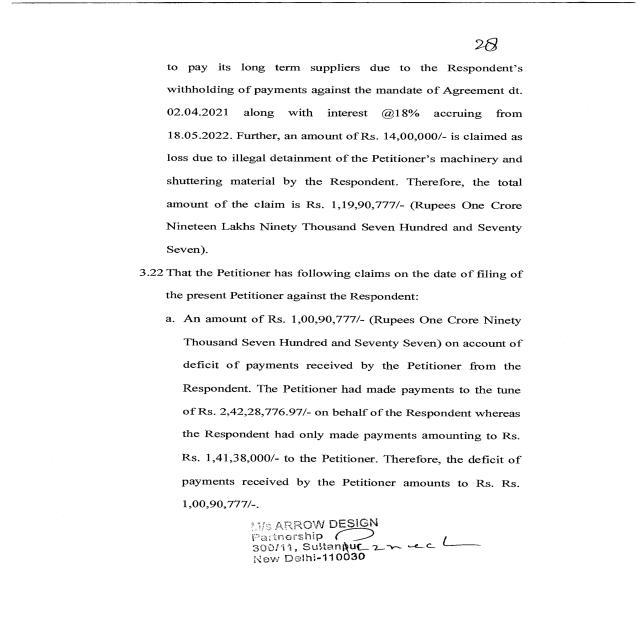page-number: (383, 0, 639, 62)
